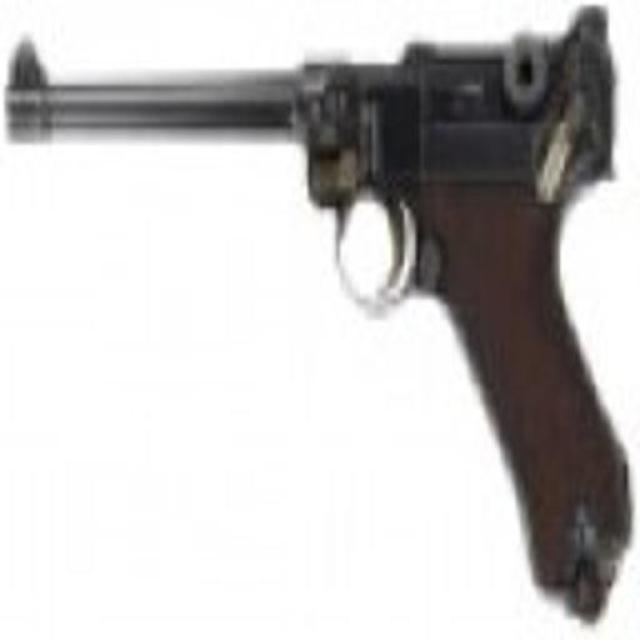pistol: (11, 5, 631, 634)
